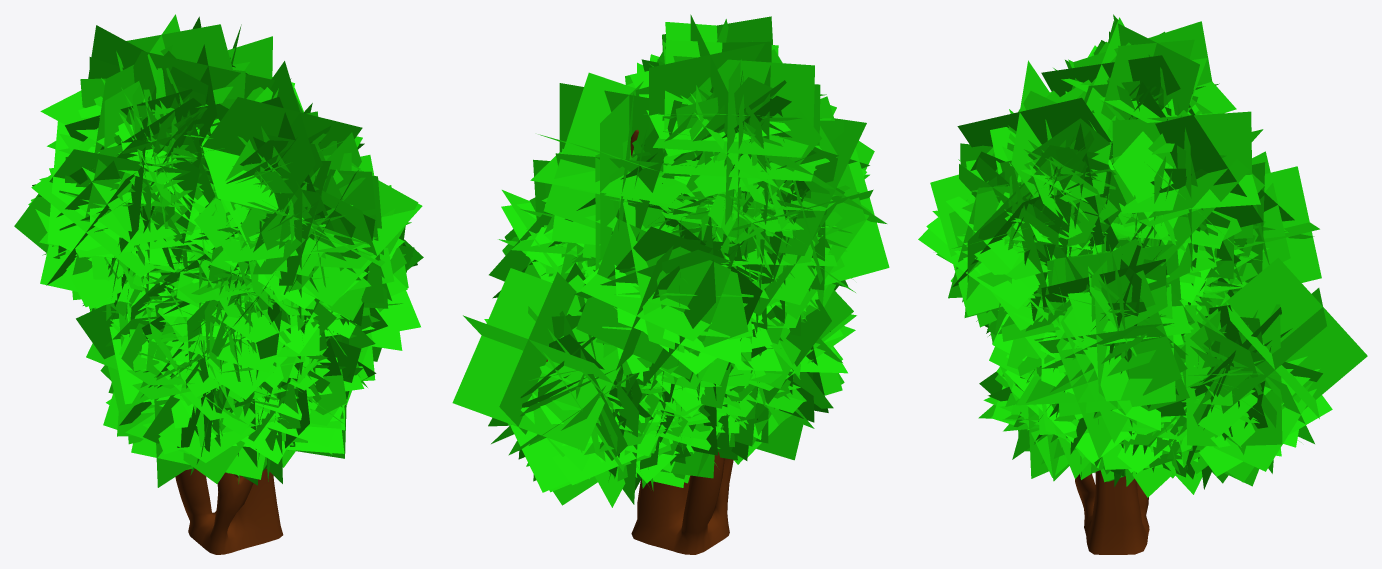
Rendered from ThickTree2.fbx.
3 views of the same model, side by side, from view 1: azimuth 30°, elevation 25°; view 2: azimuth 150°, elevation 25°; view 3: azimuth 270°, elevation 25° (orthographic). The views are drawn at different scales.
Parts seen in each view (by area): view 1: Thick Tree 2.001; view 2: Thick Tree 2.001; view 3: Thick Tree 2.001.
Boxes of the visible parts, left/top/right/bottom form: Thick Tree 2.001: left=14, top=14, right=423, bottom=554; Thick Tree 2.001: left=452, top=14, right=889, bottom=554; Thick Tree 2.001: left=918, top=14, right=1367, bottom=554.
Size of the model in its own units: 2862 by 3725 by 3128.
